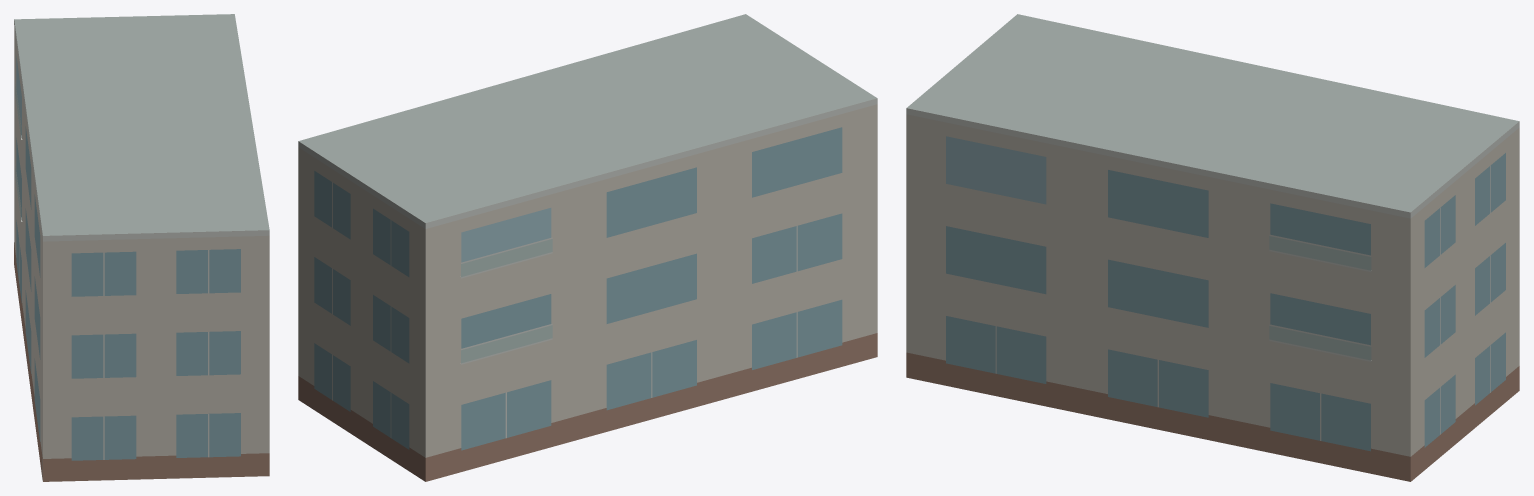
File: survey-upis-32881258.glb
The picture shows the model from 3 angles, left to right: view 1: azimuth 30°, elevation 25°; view 2: azimuth 150°, elevation 25°; view 3: azimuth 270°, elevation 25°; orthographic projection. The views are drawn at different scales.
Visible parts, largest first — view 1: survey-upis-32881258.tmp; view 2: survey-upis-32881258.tmp; view 3: survey-upis-32881258.tmp.
Boxes of the visible parts, x1=… form: survey-upis-32881258.tmp: x1=14, y1=14, x2=269, y2=481; survey-upis-32881258.tmp: x1=298, y1=14, x2=877, y2=481; survey-upis-32881258.tmp: x1=906, y1=14, x2=1519, y2=481.
Size of the model in its own units: 16.92 by 10.7 by 22.09.
